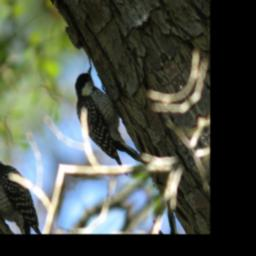Woodpecker: (60, 62, 150, 190)
